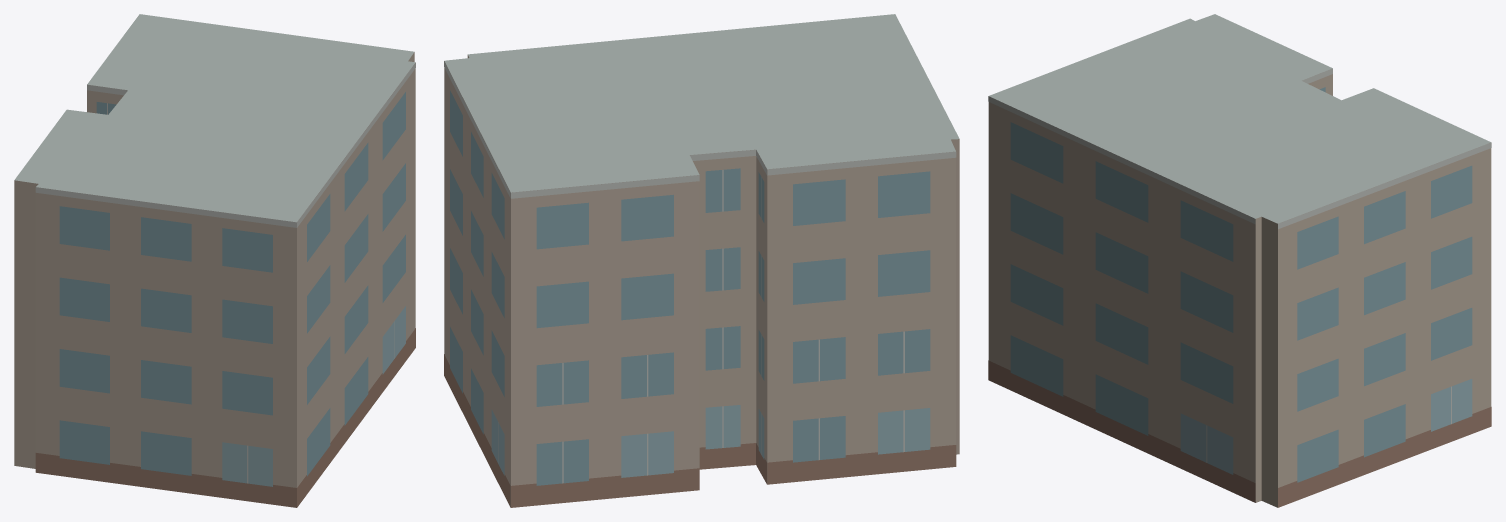
Rendered from survey-upis-32833665.glb.
3 views of the same model, side by side, from view 1: azimuth 30°, elevation 25°; view 2: azimuth 150°, elevation 25°; view 3: azimuth 270°, elevation 25° (orthographic). The views are drawn at different scales.
Visible parts, largest first — view 1: survey-upis-32833665.tmp; view 2: survey-upis-32833665.tmp; view 3: survey-upis-32833665.tmp.
Boxes of the visible parts, box(x1,y1,x2,y2) form: survey-upis-32833665.tmp: box(14, 14, 415, 507); survey-upis-32833665.tmp: box(444, 14, 959, 507); survey-upis-32833665.tmp: box(988, 14, 1491, 507).
Bounding box in the file's own units: 19.48 × 12.3 × 19.74.
